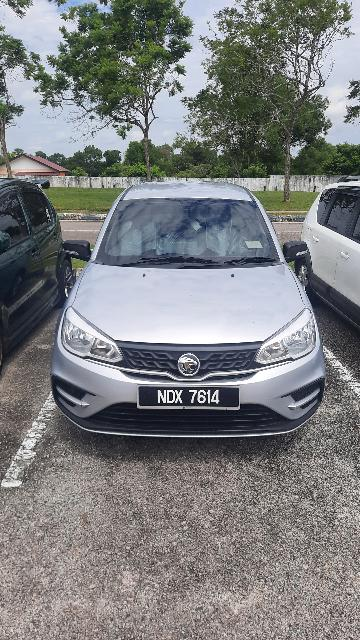License_Plate: (137, 379, 244, 411)
car: (51, 157, 331, 443)
